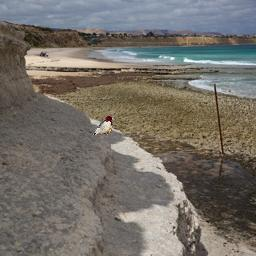Woodpecker: (89, 115, 115, 135)
